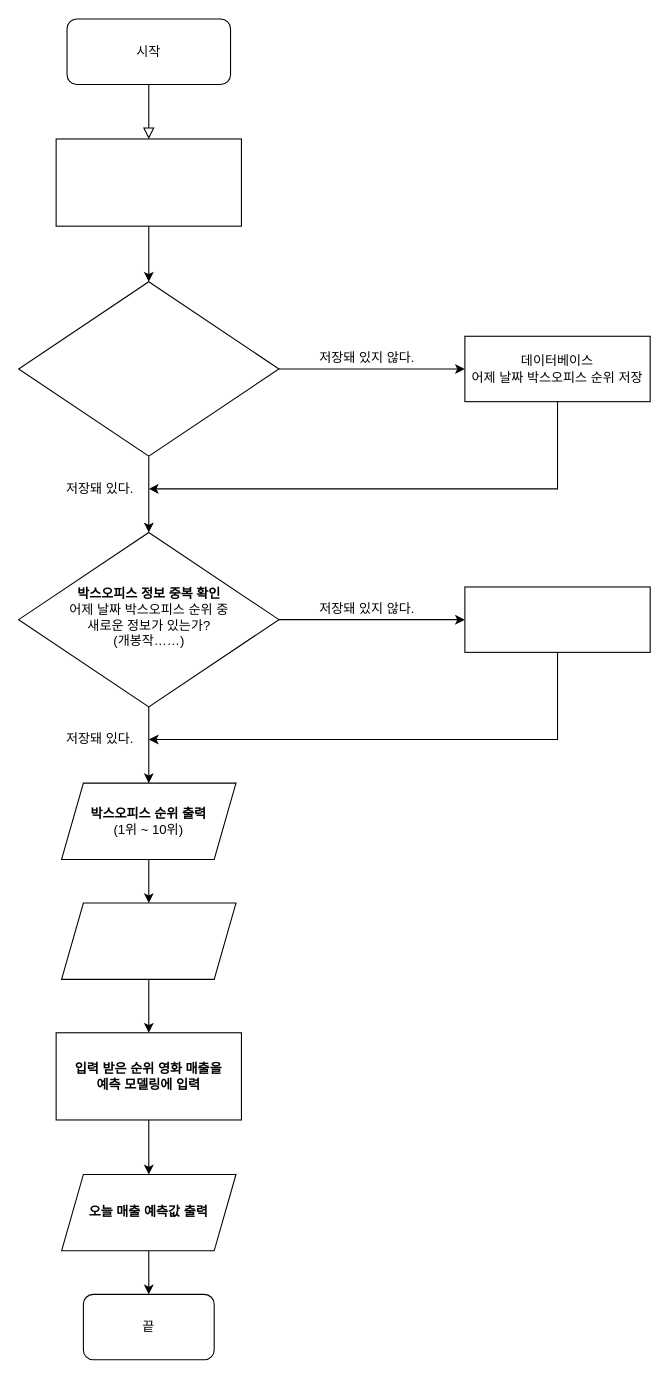
Image size: 670x1379. Some labels were removed from this diagram. The shapes that lost their labels are listed below. From the top down, each one's box as (x1, y1, x2, y2) in pixels, then its label:
(55, 138, 241, 226): 어제 박스오피스 정보 가져오기
(18, 281, 279, 456): 박스오피스 정보 중복 확인 어제 날짜 박스오피스 순위가 저장돼 있는가?
(464, 586, 650, 652): 데이터베이스 새로운 영화 정보 추가
(60, 902, 236, 979): 박스오피스 순위 입력 (1위 ~ 10위)
